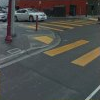crosswalk: (41, 39, 100, 67), (40, 19, 97, 31)
